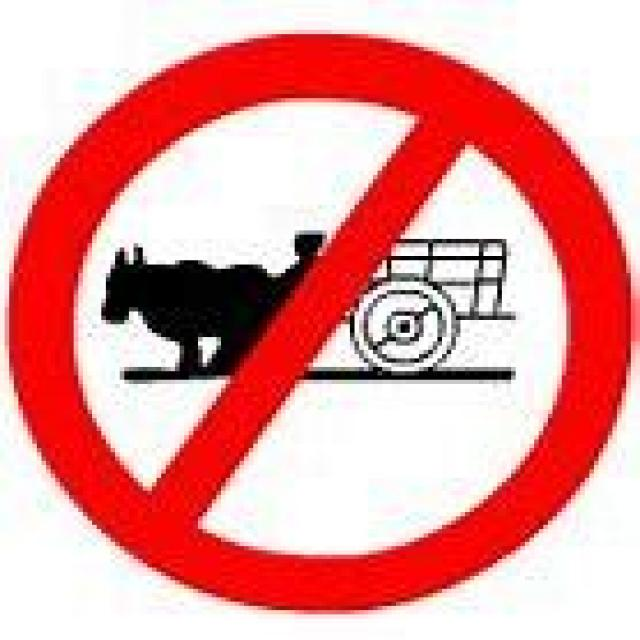BULLOCK_PROHIBITED: (0, 29, 635, 610)
